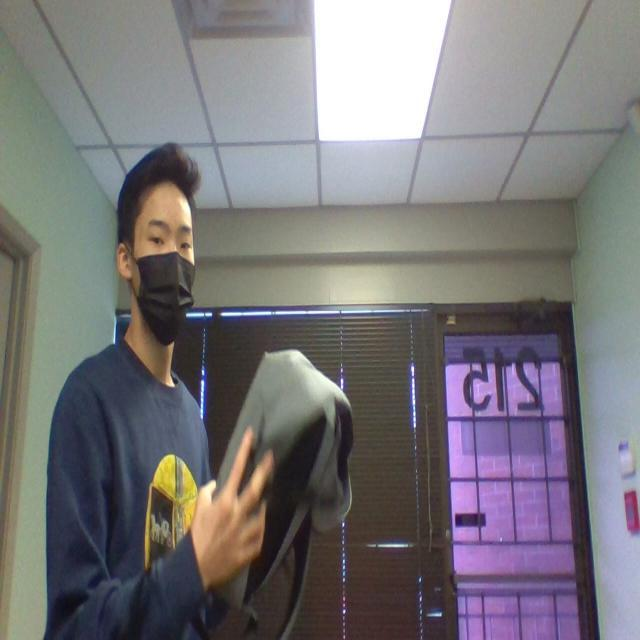Backpacks: (212, 348, 358, 600)
